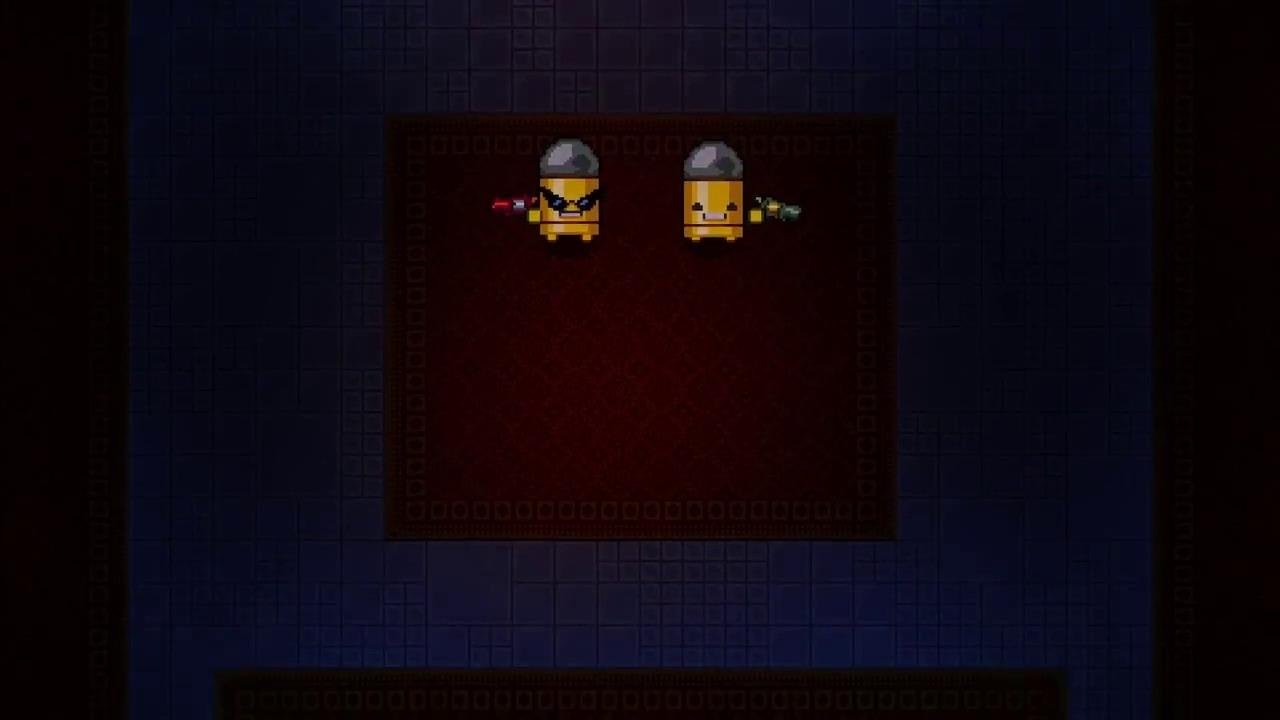boss_shades: (539, 139, 600, 242)
boss_smiley: (682, 141, 745, 243)
